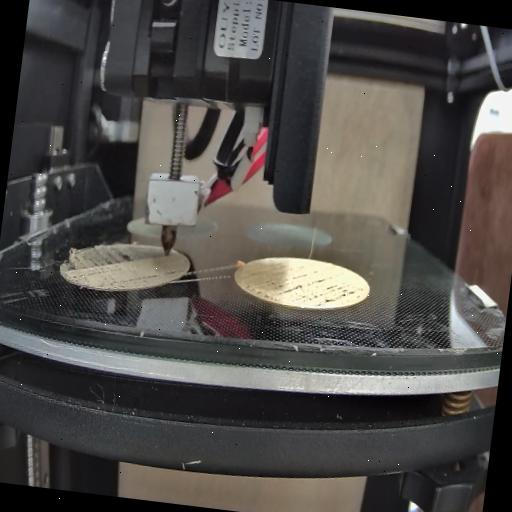under_extrusion: (244, 270, 364, 312), (58, 237, 141, 284), (143, 265, 184, 288)
